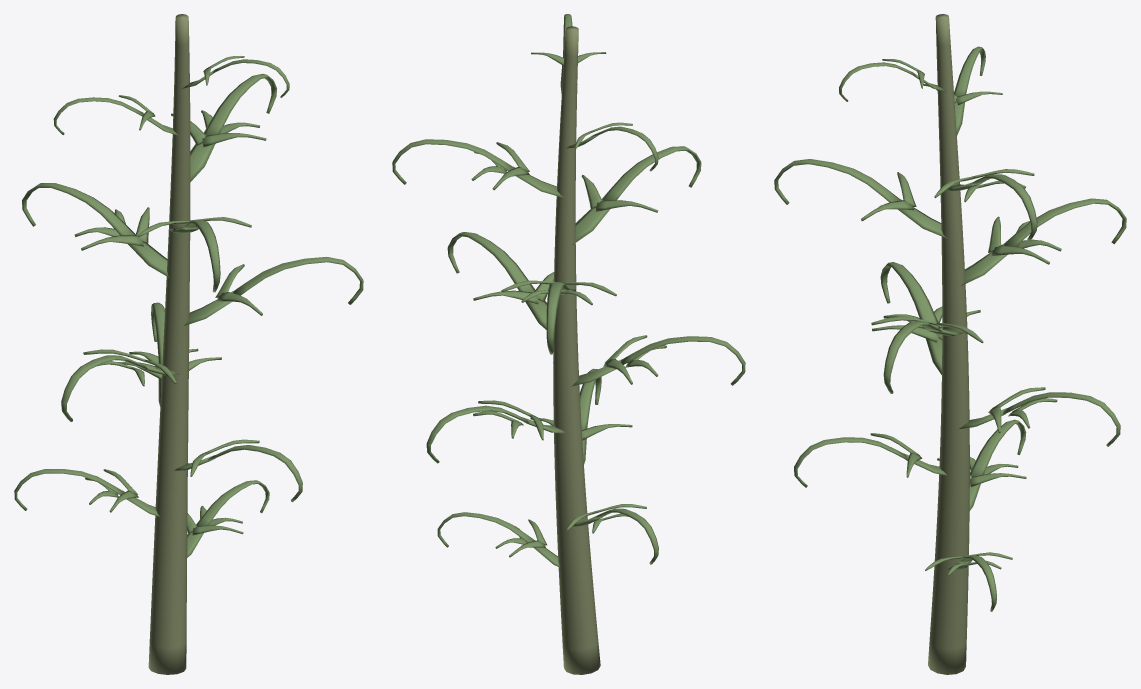
File: leclercqia.glb
3 views of the same model, side by side, from view 1: azimuth 30°, elevation 25°; view 2: azimuth 150°, elevation 25°; view 3: azimuth 270°, elevation 25° (orthographic). The views are drawn at different scales.
Parts seen in each view (by area): view 1: divided-leaf-units-with-long-recurved-central-segments, slender-shoot-with-spirally-seated-leaf-bases; view 2: divided-leaf-units-with-long-recurved-central-segments, slender-shoot-with-spirally-seated-leaf-bases; view 3: divided-leaf-units-with-long-recurved-central-segments, slender-shoot-with-spirally-seated-leaf-bases.
Boxes of the visible parts, bbox=[...] form: divided-leaf-units-with-long-recurved-central-segments: bbox=[14, 56, 363, 557]; slender-shoot-with-spirally-seated-leaf-bases: bbox=[148, 14, 190, 674]; divided-leaf-units-with-long-recurved-central-segments: bbox=[392, 14, 745, 567]; slender-shoot-with-spirally-seated-leaf-bases: bbox=[553, 26, 600, 674]; divided-leaf-units-with-long-recurved-central-segments: bbox=[774, 46, 1126, 611]; slender-shoot-with-spirally-seated-leaf-bases: bbox=[928, 14, 969, 674].
Size of the model in its own units: 0.0876 by 0.18 by 0.0875.
